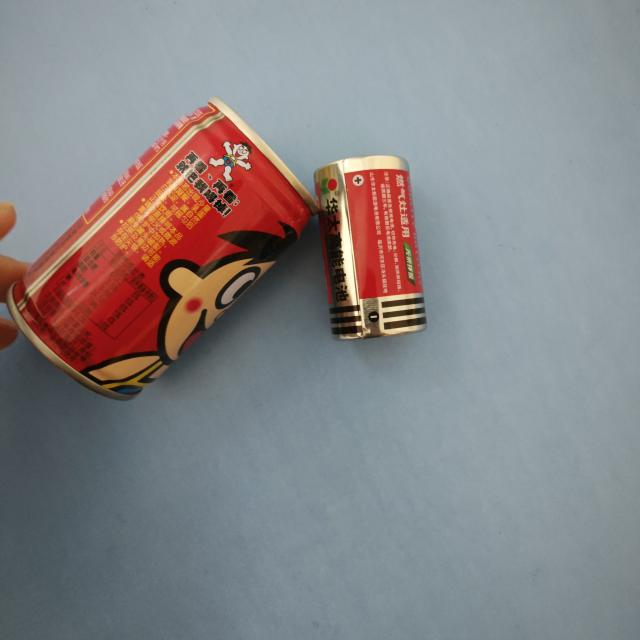-Hazardous waste - battery-: (317, 152, 428, 344)
-Recyclables - can-: (7, 94, 314, 400)
